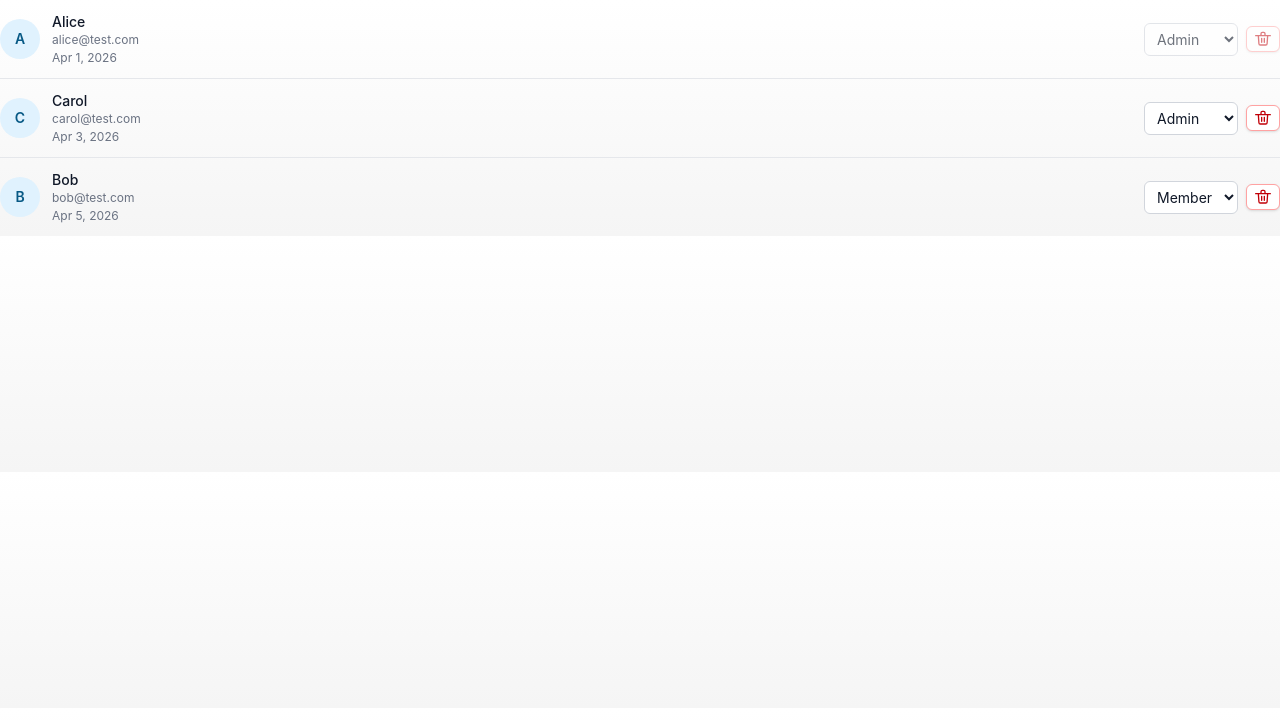
Test: MemberManagement › opens confirmation dialog when clicking remove
Click the button with test id "remove-member-btn-user-2" at (1263, 197), box [1246,184,1279,210]
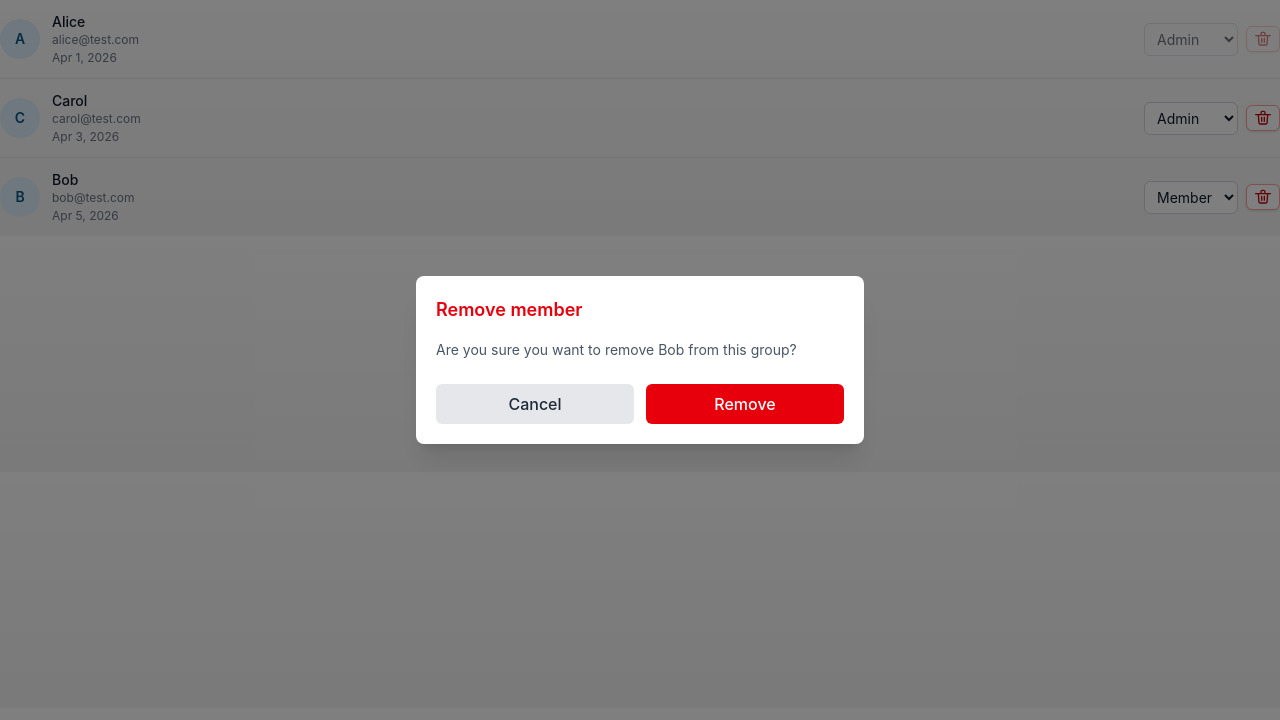
Result: the dialog with test id "remove-member-dialog" is shown at [416,276,864,444]
Result: the dialog with test id "remove-member-dialog" shows "Are you sure you want to remove Bob from this group?" at [436,341,797,358]
